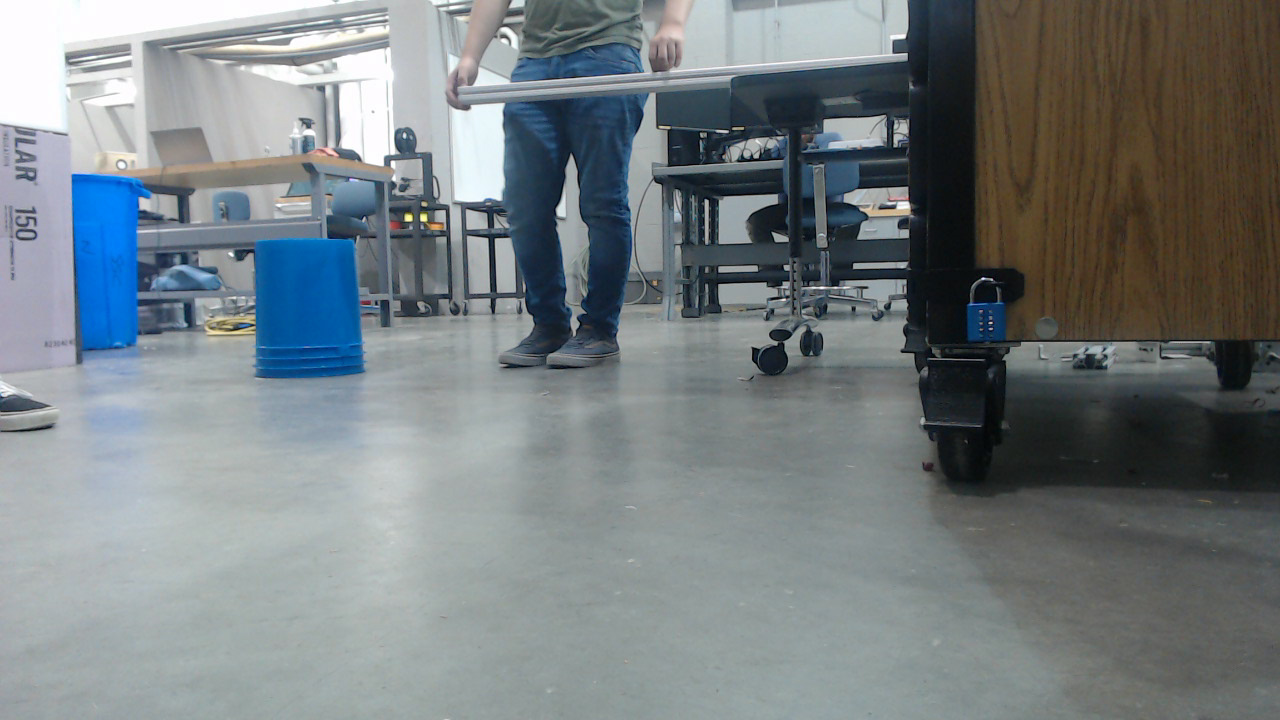blue_bucket: (257, 244, 373, 382)
